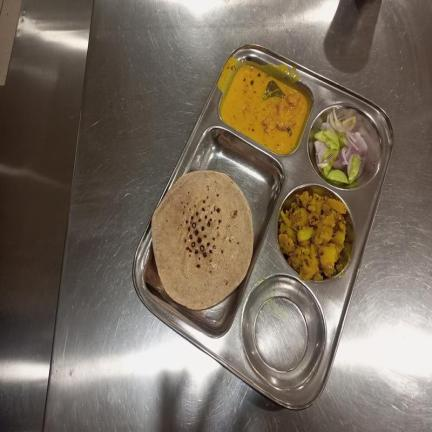Curry: (220, 63, 309, 155)
Plate: (131, 44, 393, 409)
Roti: (152, 170, 253, 310)
Salad: (314, 109, 370, 185)
Zeera Aalu: (279, 192, 348, 282)
